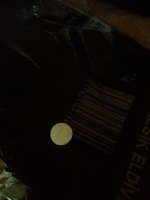Arveles: (48, 122, 73, 147)
